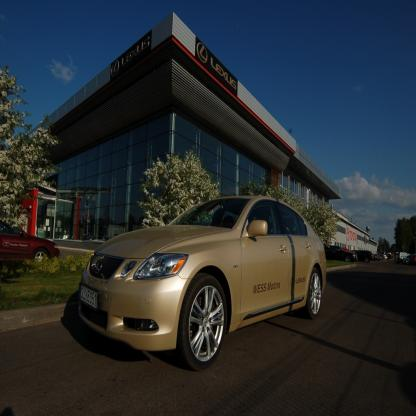Car: (78, 196, 329, 364), (326, 248, 360, 263), (357, 250, 371, 261)
